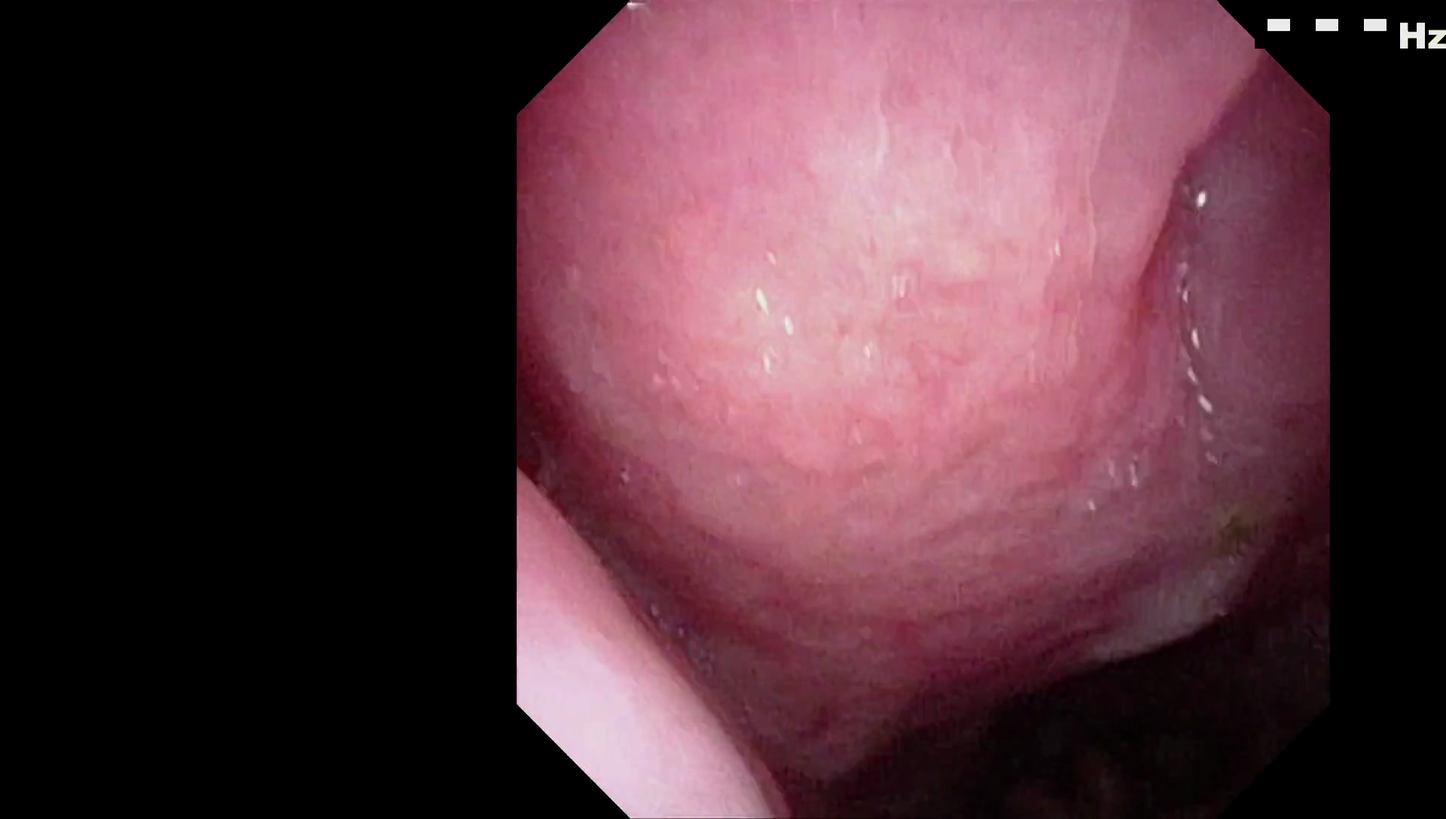close_wall: (632, 40, 1189, 572), (529, 510, 859, 819)
next: (795, 608, 1263, 819)
